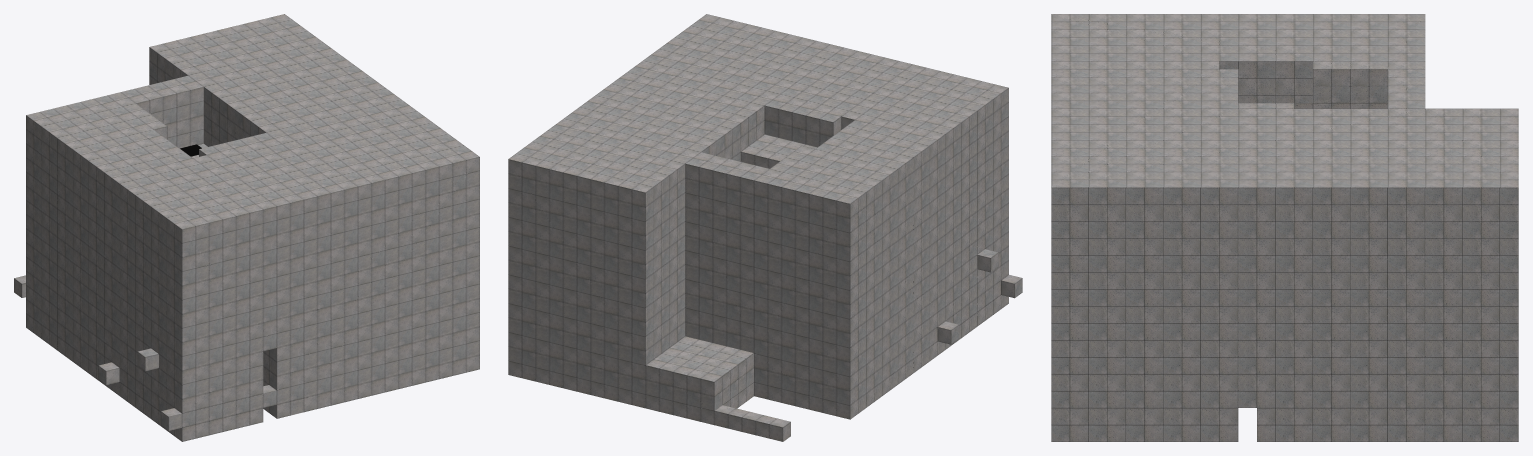
Rendered from PlayUpGrp2.dae.
The picture shows the model from 3 angles, left to right: view 1: azimuth 30°, elevation 25°; view 2: azimuth 150°, elevation 25°; view 3: azimuth 270°, elevation 25°; orthographic projection. The views are drawn at different scales.
Visible parts, largest first — view 1: mesh0%root%0%; view 2: mesh0%root%0%; view 3: mesh0%root%0%.
Part boxes in pixels (box(x1,y1,x2,y2)): mesh0%root%0%: box(14, 14, 479, 441); mesh0%root%0%: box(508, 14, 1022, 441); mesh0%root%0%: box(1051, 14, 1518, 441).
Bounding box in the file's own units: 23 × 15 × 25.
